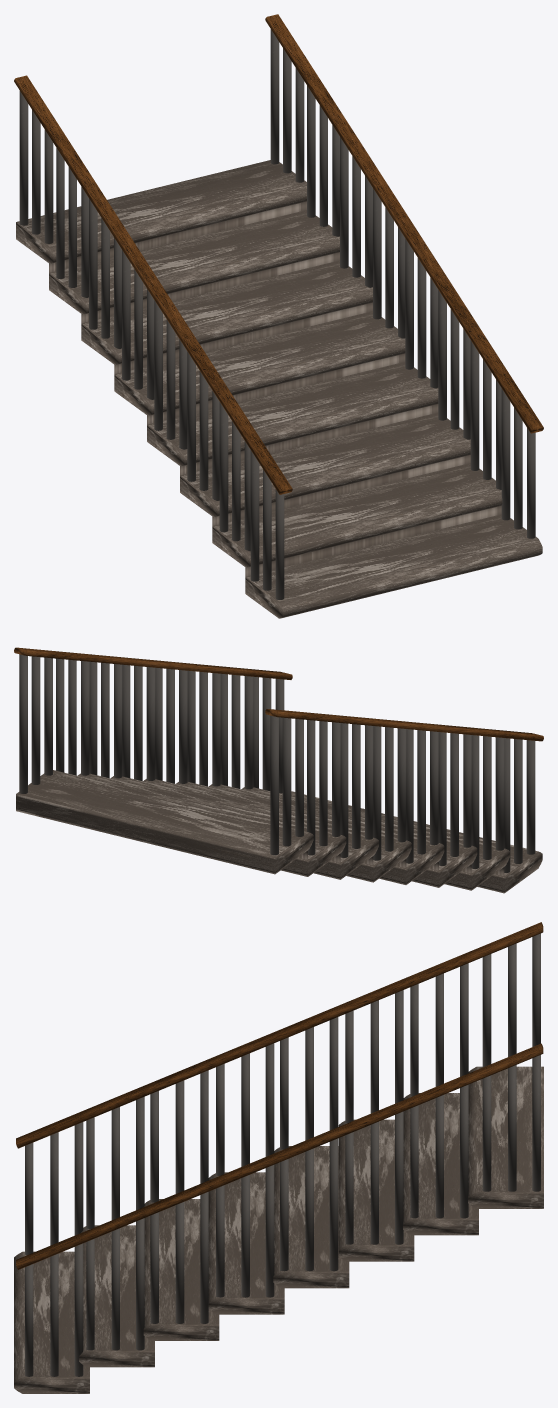
The model's file is EscalierZEvent.fbx.
3 views of the same model, one above another, from view 1: azimuth 30°, elevation 25°; view 2: azimuth 150°, elevation 25°; view 3: azimuth 270°, elevation 25° (orthographic).
Parts seen in each view (by area): view 1: Planche, cyl.047, Plank.001; view 2: cyl.047, Planche, Plank.001; view 3: Planche, cyl.047, Plank.001.
Boxes of the visible parts, <box> form: Planche: <box>16,160,542,618</box>; cyl.047: <box>19,29,535,599</box>; Plank.001: <box>14,14,543,494</box>; cyl.047: <box>19,654,535,872</box>; Planche: <box>16,770,542,893</box>; Plank.001: <box>14,647,543,741</box>; Planche: <box>14,1066,543,1393</box>; cyl.047: <box>25,933,540,1376</box>; Plank.001: <box>16,922,543,1269</box>.
Bounding box in the file's own units: 204 × 258 × 358.
